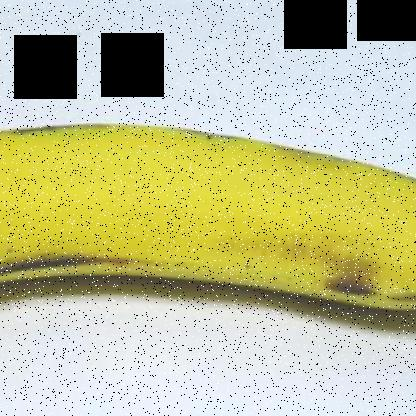freshripe: (1, 109, 415, 347)
